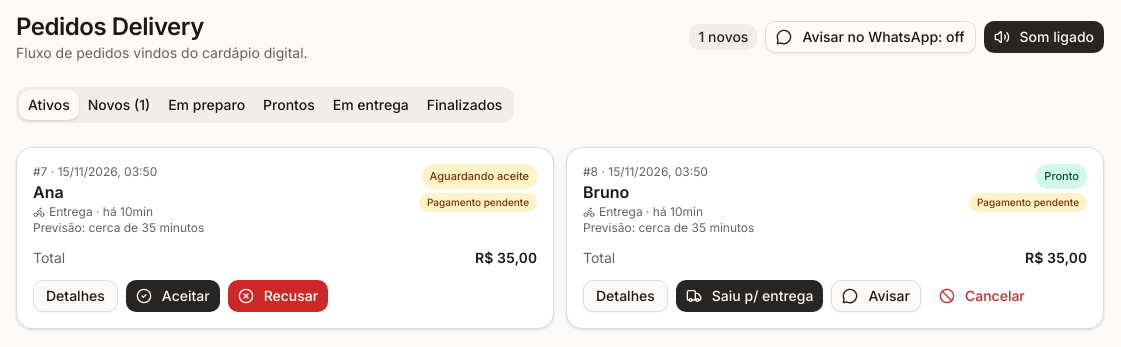
it: PedidosDelivery › mostra estado vazio quando a aba não tem pedidos
expect the text "Ana" is shown: met, box [33,182,64,202]
What coordinates should you click on to do the following:
click the tab "Em entrega"
I would click on:
 (371, 105)
Its box is [324,90,418,120].
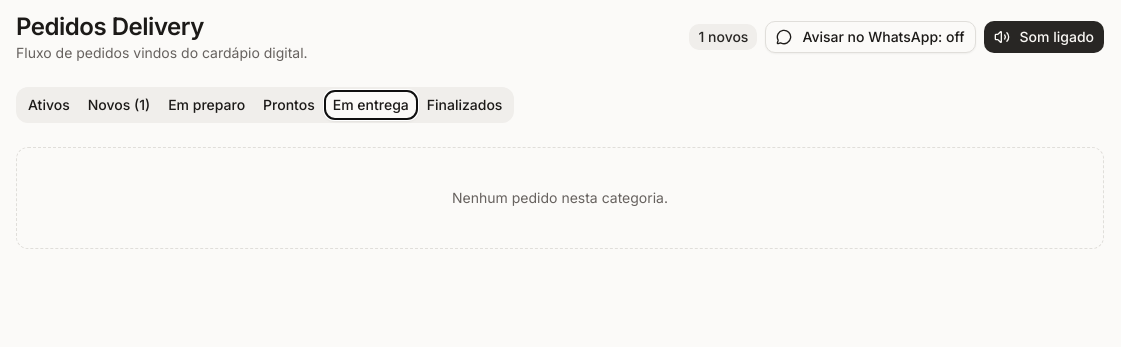
expect the text "Nenhum pedido nesta categoria." is shown: met, box [16,147,1104,249]
